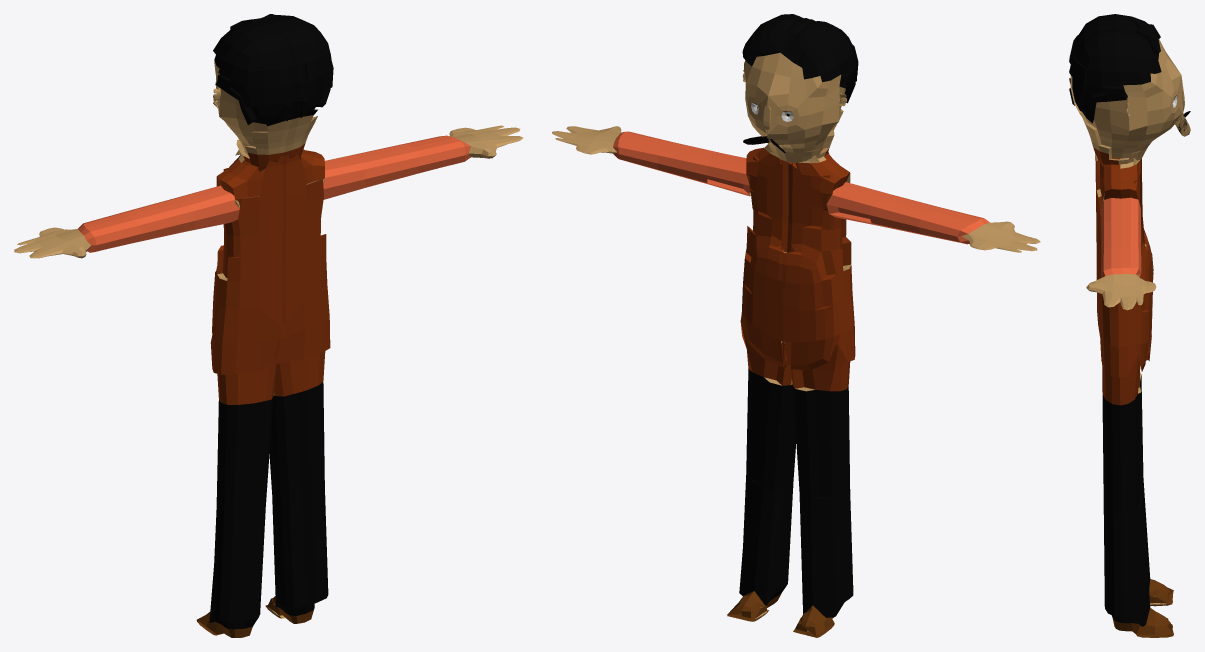
The model's file is chara lurus.fbx.
3 renders of one model, left to right at view 1: azimuth 30°, elevation 25°; view 2: azimuth 150°, elevation 25°; view 3: azimuth 270°, elevation 25°, orthographic. The views are drawn at different scales.
Parts seen in each view (by area): view 1: Cube; view 2: Cube; view 3: Cube.
Boxes of the visible parts, x1,y1,x2,y2 form: Cube: [14, 14, 523, 637]; Cube: [552, 14, 1040, 637]; Cube: [1069, 14, 1190, 637].
Bounding box in the file's own units: 9216 × 10628 × 1981.
